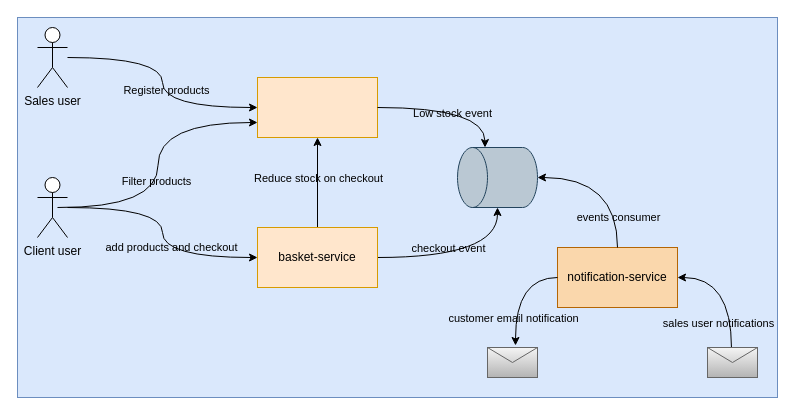
The diagram is 795 pixels wide and 415 high, and some of its shapes have lost their labels. Each missing label, with the centre of its shape:
Kafka: the point at 497,177
sales-catalog: the point at 317,107
